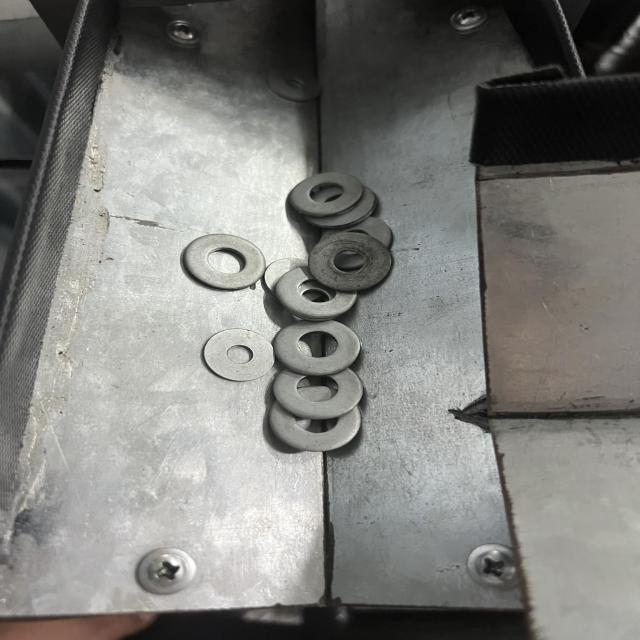washer: (309, 230, 395, 294), (182, 236, 266, 292), (204, 330, 274, 379), (291, 166, 358, 214)
